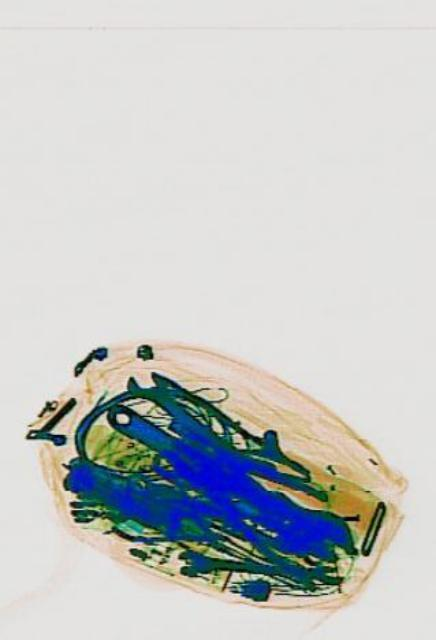Wrench: (96, 381, 358, 581), (121, 352, 247, 481)
